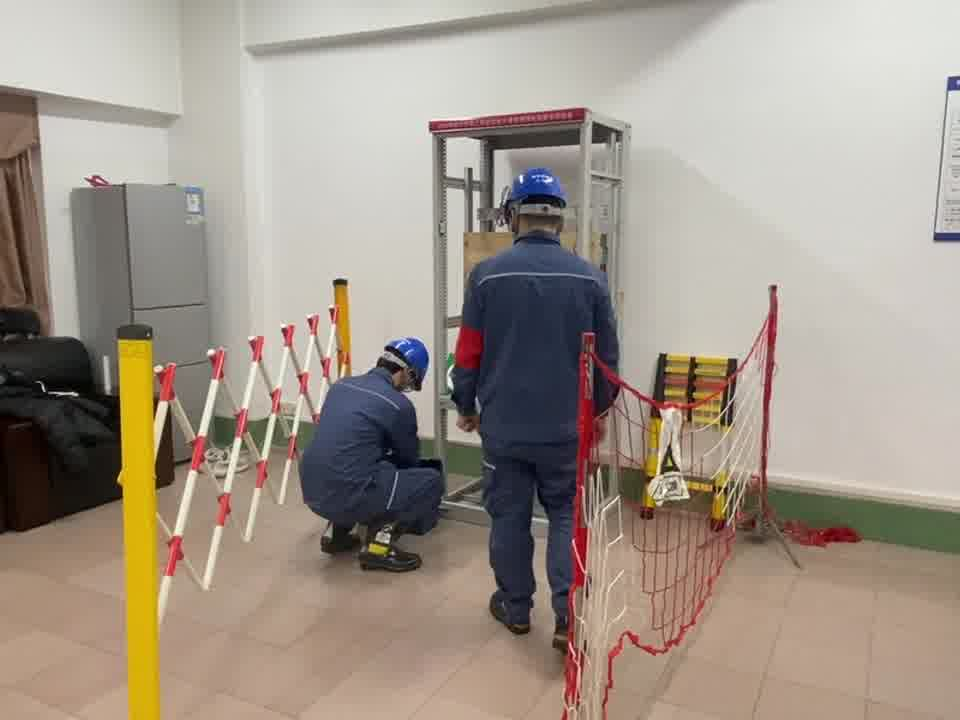badge: (454, 325, 486, 372)
downsuit: (481, 453, 583, 603), (352, 461, 442, 539)
halt: (500, 166, 572, 246), (374, 335, 431, 394)
hand: (455, 409, 482, 434)
inear: (397, 364, 417, 389), (506, 201, 521, 234)
person: (450, 163, 623, 655), (298, 333, 441, 574)
shoe: (321, 514, 425, 573)
upsuit: (451, 237, 620, 454), (302, 367, 420, 510)
